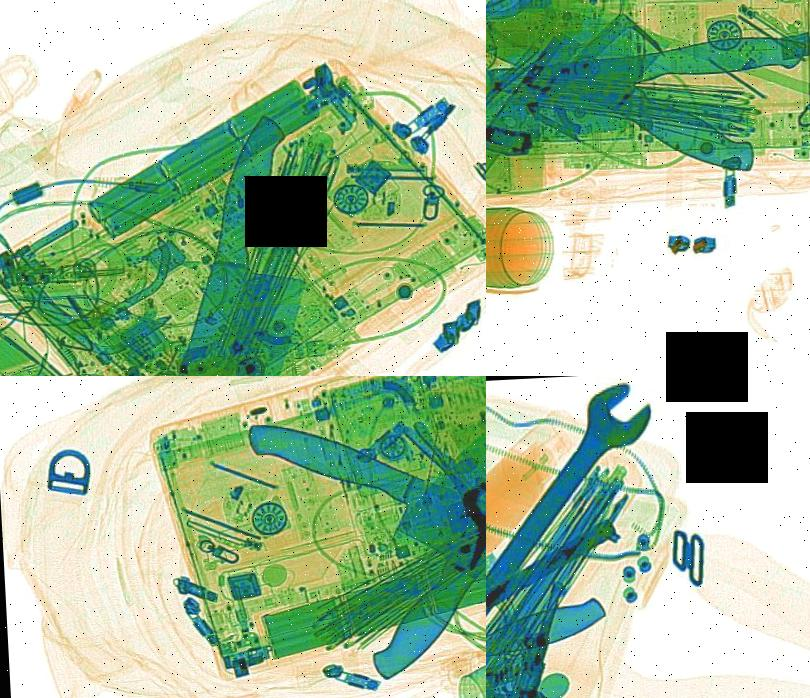Gun: (486, 573, 568, 698)
Knife: (218, 389, 486, 637), (133, 107, 369, 376), (486, 0, 805, 195), (292, 404, 486, 687), (486, 27, 810, 149), (486, 518, 628, 688), (486, 586, 620, 698)
Wrench: (486, 376, 683, 686)
